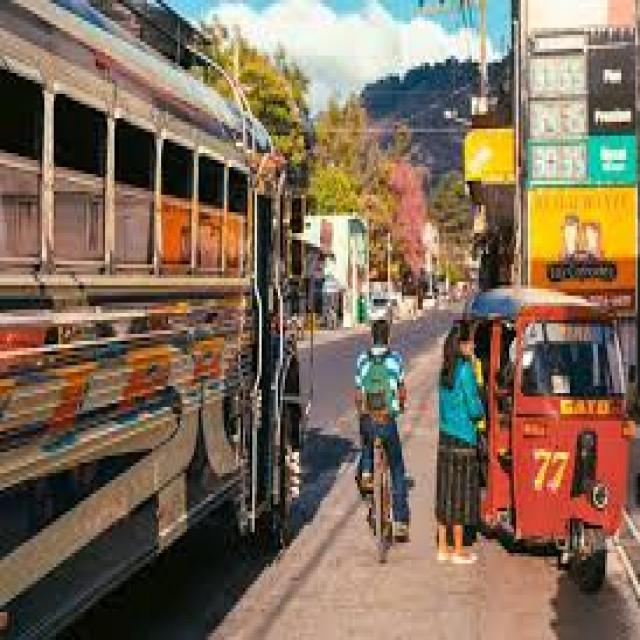bus: (4, 29, 321, 630)
tuktuk: (488, 282, 640, 602)
